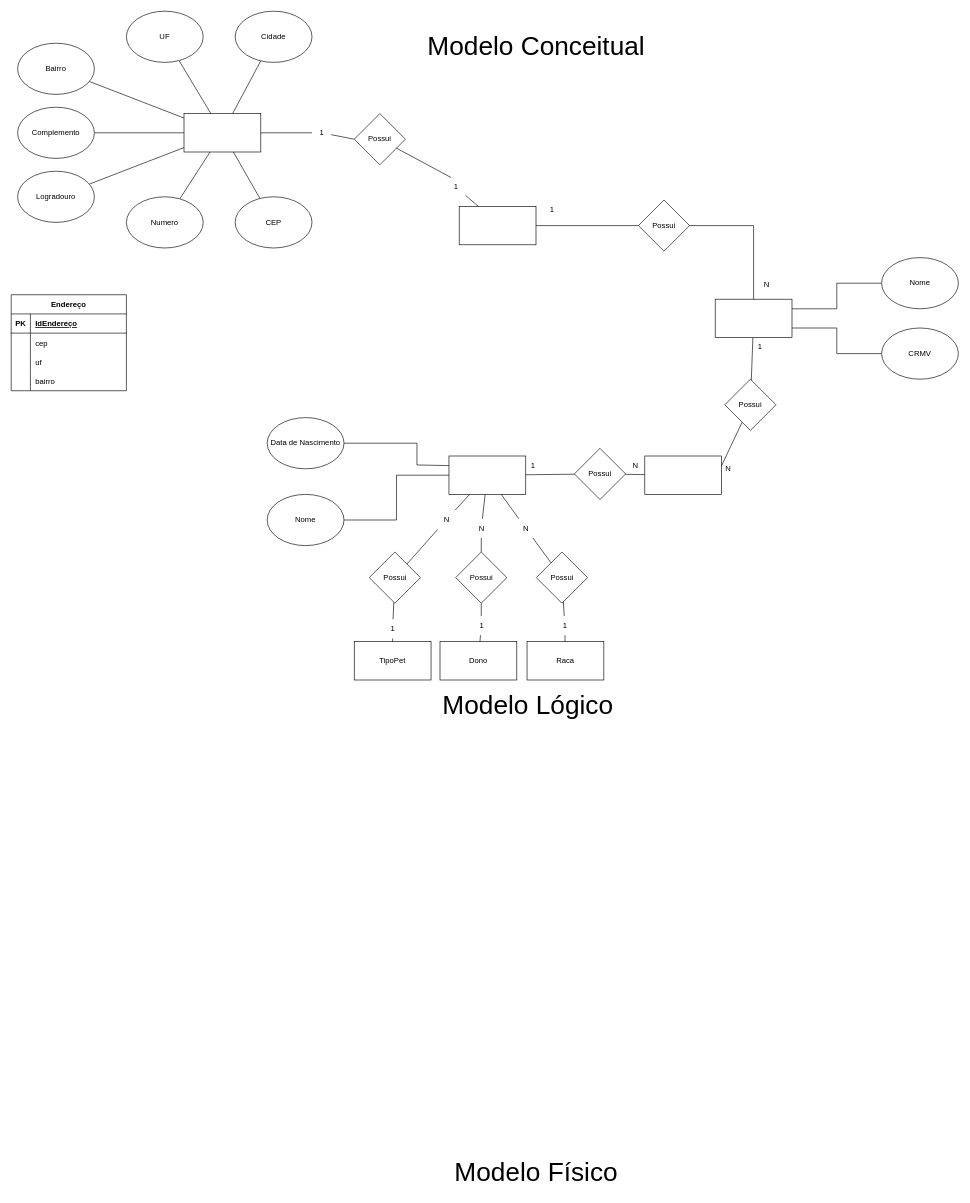
This 970x1203 diagram has some shape labels left out. Each missing label, with the box of its shape:
Atendimento: (644, 455, 722, 494)
Clinica: (459, 206, 536, 245)
Endereco: (183, 113, 261, 152)
Pets: (448, 455, 526, 494)
Veterinários: (715, 299, 792, 338)
